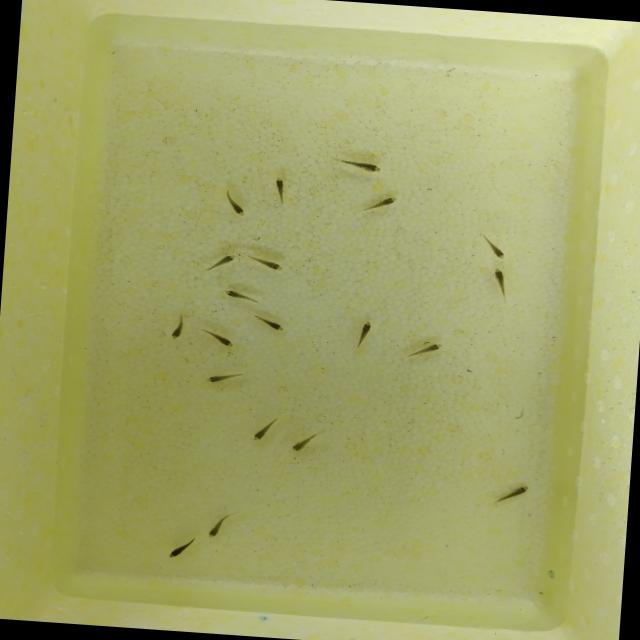fingerling: (284, 430, 318, 457), (414, 337, 449, 361), (250, 255, 292, 274), (501, 482, 537, 504), (346, 156, 382, 178), (482, 236, 510, 264), (250, 315, 290, 334), (265, 172, 291, 201), (218, 194, 250, 217), (162, 538, 190, 564), (206, 250, 238, 272), (370, 190, 402, 212), (486, 268, 512, 294), (215, 286, 255, 301), (351, 319, 377, 342), (206, 332, 238, 348), (201, 372, 238, 385), (252, 419, 268, 445), (170, 314, 183, 342), (206, 520, 222, 542)
